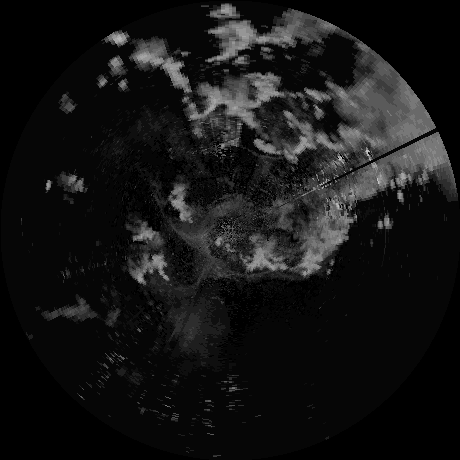frontgust: (157, 197, 185, 235), (222, 268, 276, 280), (243, 148, 286, 159)
